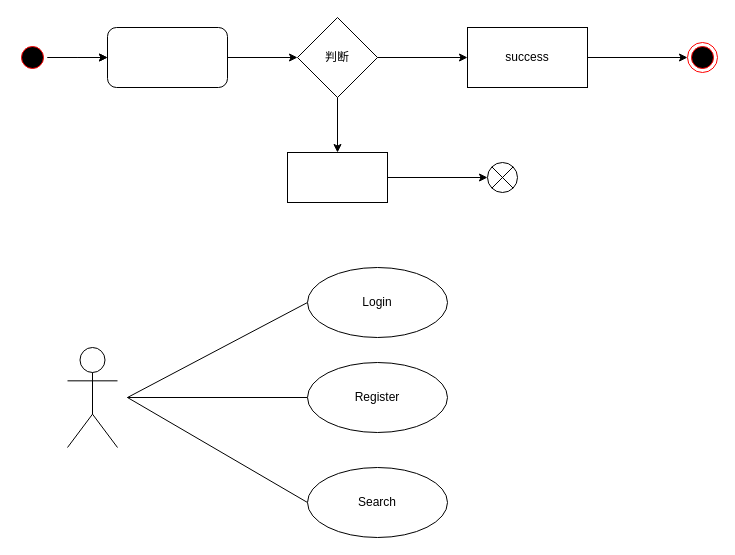
Some shapes in this 735 by 555 pixel diagram are drawn without their labels. Each missing label, with the box of its shape:
access: (106, 26, 228, 88)
Actor: (66, 346, 118, 448)
FAIL: (286, 152, 388, 202)
